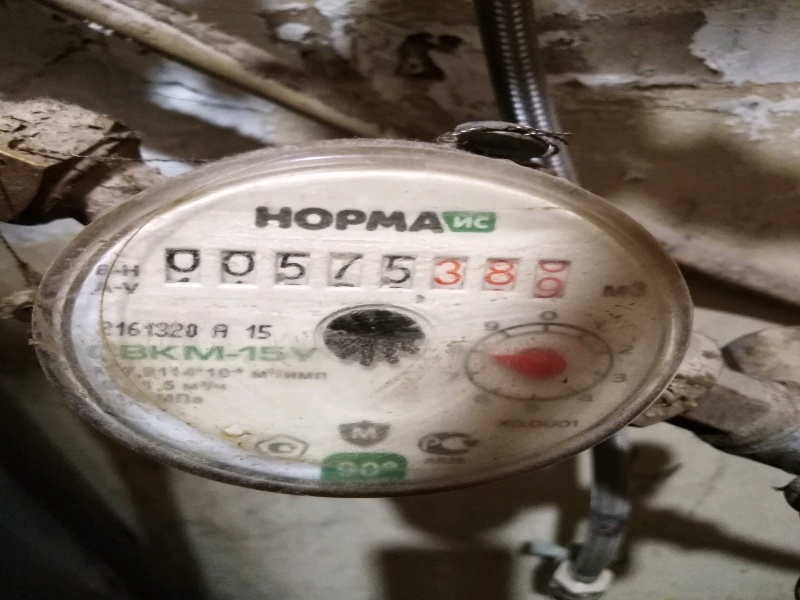meter: (153, 241, 587, 305)
